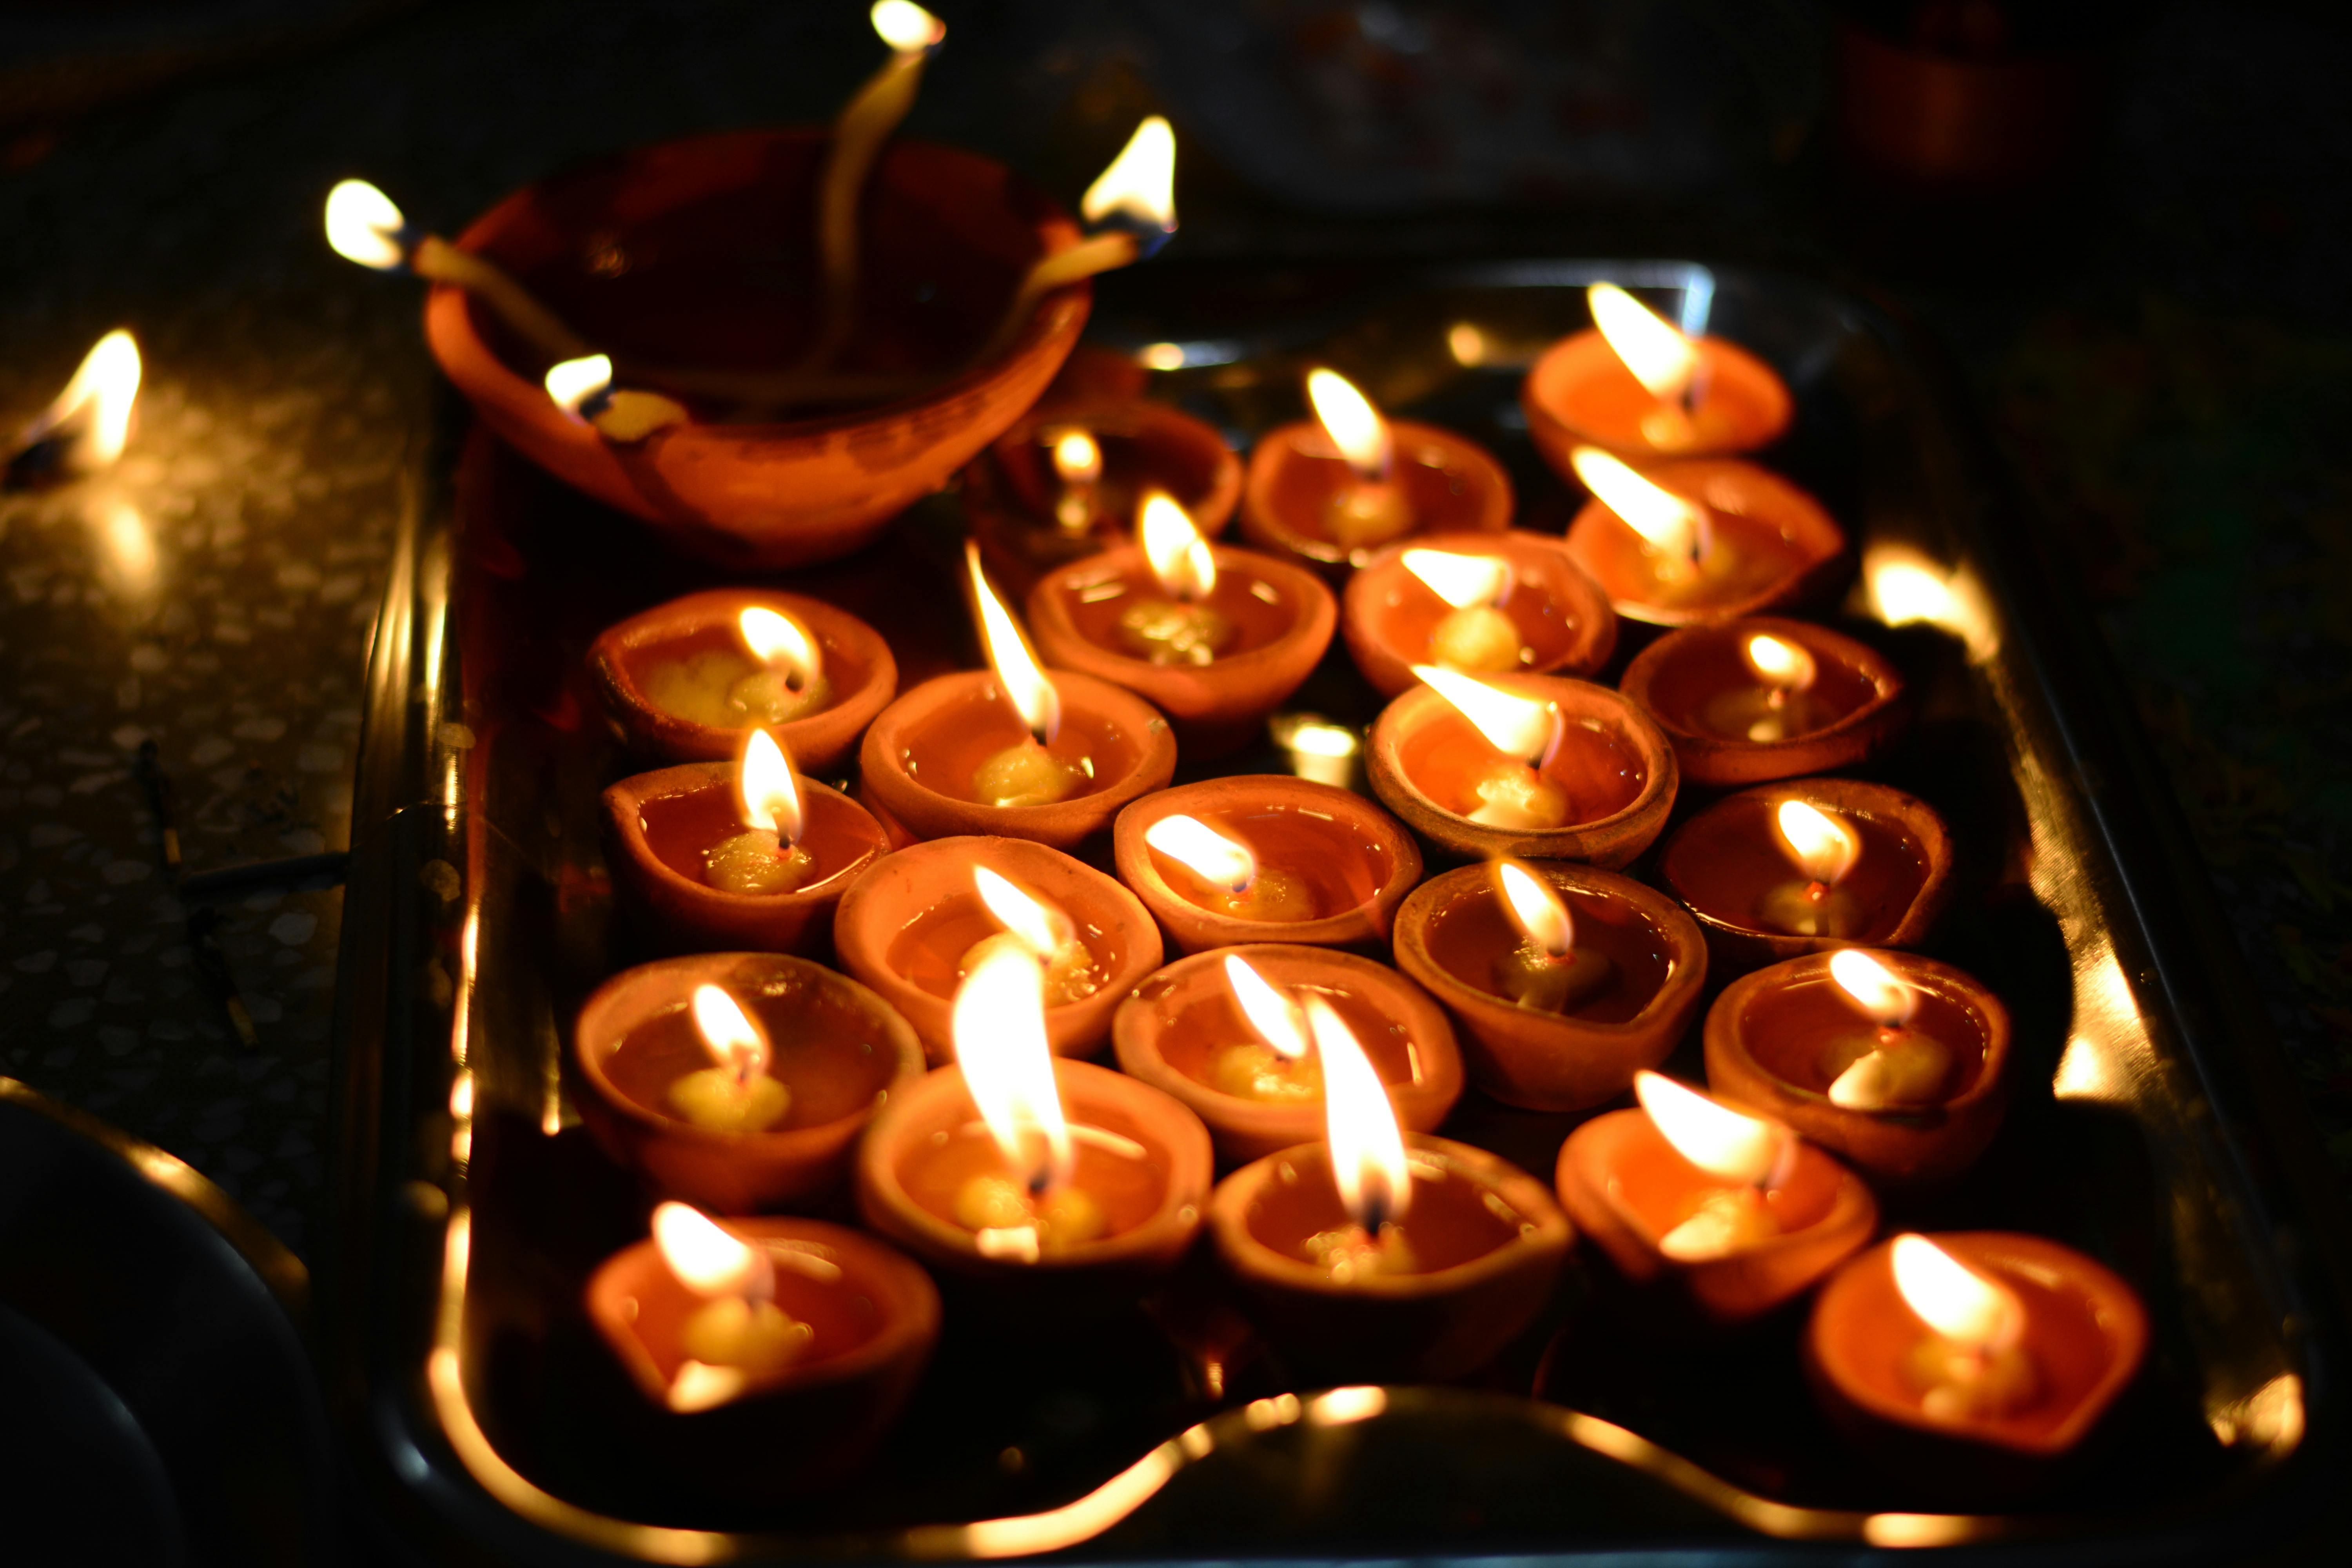Fire: (906, 945, 1110, 1195), (1624, 1043, 1820, 1221), (950, 518, 1081, 763), (1393, 647, 1605, 788), (1318, 980, 1428, 1246), (1561, 429, 1739, 588), (1878, 1220, 2060, 1369), (628, 1181, 798, 1333), (1059, 107, 1221, 261), (40, 331, 191, 490), (294, 142, 429, 315), (1577, 278, 1724, 427), (941, 837, 1110, 952), (1283, 346, 1410, 497), (710, 565, 842, 700), (1372, 521, 1535, 623), (1122, 460, 1234, 607), (1213, 919, 1304, 1099), (1475, 821, 1586, 968), (1134, 784, 1281, 894), (730, 714, 837, 861), (679, 964, 798, 1087), (1760, 789, 1878, 901), (1729, 619, 1843, 732), (534, 334, 626, 457), (1827, 941, 1930, 1045), (837, 0, 980, 70)
